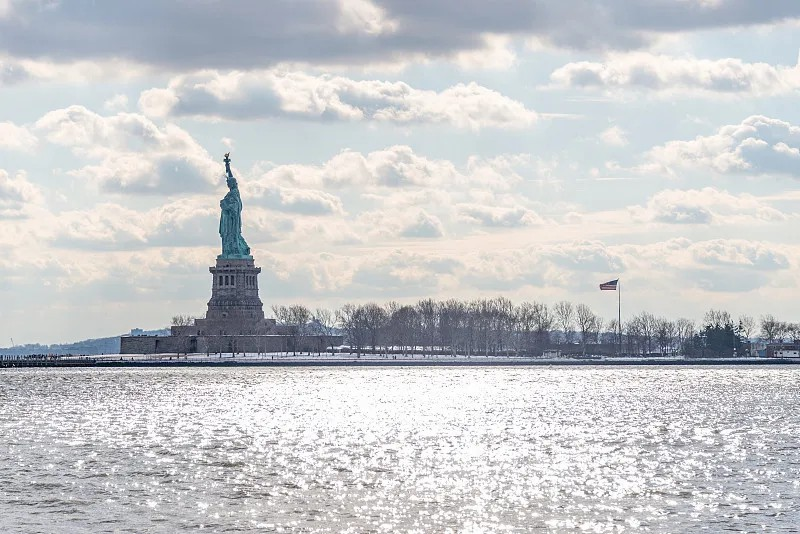SL: (204, 153, 265, 319)
